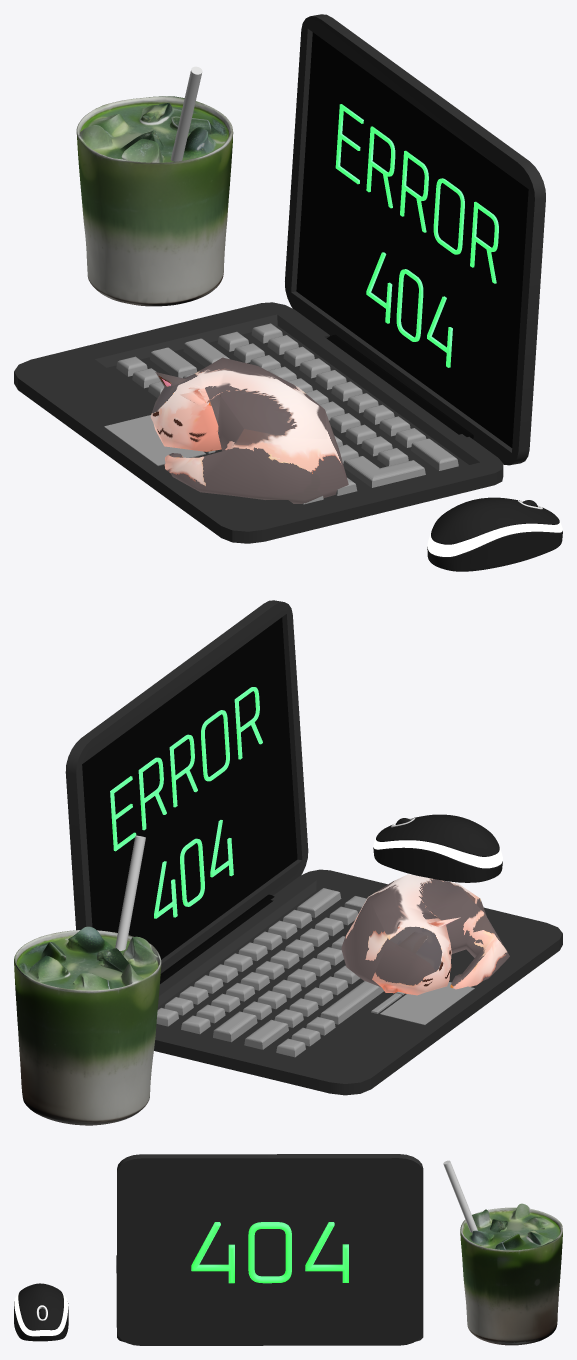
File: laptop3update.glb
3 renders of one model, top to bottom at view 1: azimuth 30°, elevation 25°; view 2: azimuth 150°, elevation 25°; view 3: azimuth 270°, elevation 25°, orthographic. The views are drawn at different scales.
Parts seen in each view (by area): view 1: Cube.014, Empty, Cube.001, Cube.013, Cube.002, polySurface5, Text.001, Cube.011, Cube.012, Cube.010, polySurface2, Cylinder (+3 smaller); view 2: Cube.014, Empty, Cube.001, Cube.013, Cube.002, polySurface5, Text.001, Cube.011, Cylinder, polySurface2, Cube.012, Cube.003 (+3 smaller); view 3: Cube.013, Empty, Text, polySurface5, Cylinder, polySurface2.
Boxes of the visible parts, bbox=[...] form: Cube.014: bbox=[296, 32, 528, 447]; Empty: bbox=[76, 96, 348, 503]; Cube.001: bbox=[14, 302, 503, 543]; Cube.013: bbox=[285, 14, 545, 465]; Cube.002: bbox=[116, 323, 426, 504]; polySurface5: bbox=[427, 497, 562, 571]; Text.001: bbox=[335, 104, 498, 367]; Cube.011: bbox=[104, 415, 205, 465]; Cube.012: bbox=[326, 334, 473, 438]; Cube.010: bbox=[343, 456, 425, 487]; polySurface2: bbox=[427, 520, 562, 556]; Cylinder: bbox=[170, 66, 202, 161]; Cube.014: bbox=[82, 617, 297, 959]; Empty: bbox=[14, 874, 509, 1125]; Cube.001: bbox=[154, 869, 562, 1095]; Cube.013: bbox=[65, 600, 308, 973]; Cube.002: bbox=[156, 906, 360, 1057]; polySurface5: bbox=[373, 814, 502, 882]; Text.001: bbox=[110, 687, 262, 918]; Cube.011: bbox=[380, 982, 474, 1024]; Cylinder: bbox=[115, 835, 145, 950]; polySurface2: bbox=[373, 836, 502, 868]; Cube.012: bbox=[160, 894, 274, 983]; Cube.003: bbox=[320, 981, 383, 1024]; Cube.013: bbox=[117, 1154, 423, 1345]; Empty: bbox=[460, 1203, 562, 1345]; Text: bbox=[191, 1222, 348, 1283]; polySurface5: bbox=[14, 1283, 68, 1341]; Cylinder: bbox=[443, 1160, 477, 1232]; polySurface2: bbox=[14, 1292, 68, 1336].
Bounding box in the file's own units: 5.09 × 4.75 × 11.72.
Materials: 11 (2 with a texture image).
